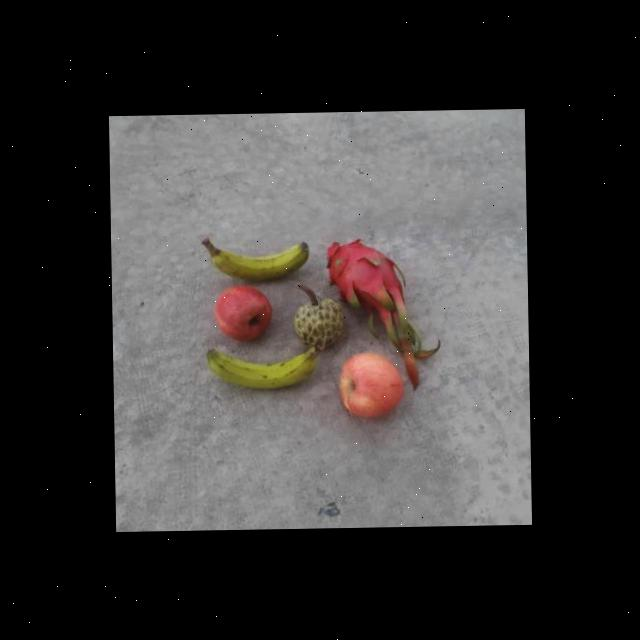Sakya fruit: (290, 297, 347, 349)
apple: (338, 351, 406, 416), (216, 282, 281, 342)
banana: (200, 344, 322, 388), (200, 238, 312, 280)
pitaya: (324, 236, 404, 308)
